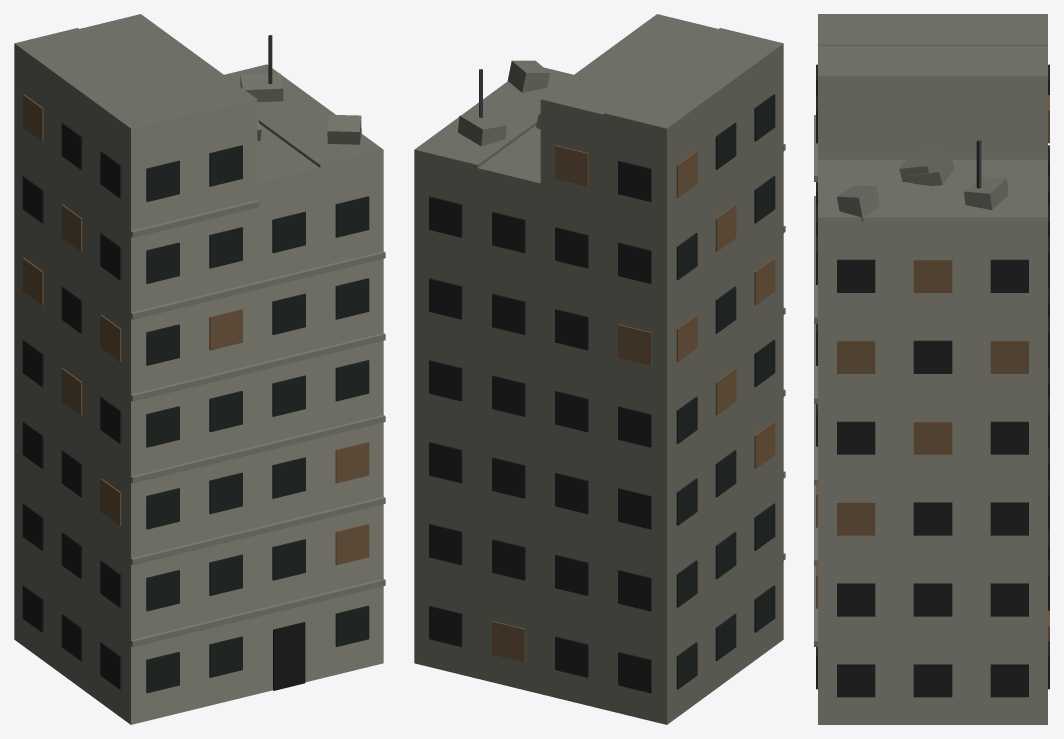
File: ct_ruin_b.glb
3 renders of one model, left to right at view 1: azimuth 30°, elevation 25°; view 2: azimuth 150°, elevation 25°; view 3: azimuth 270°, elevation 25°, orthographic.
Parts seen in each view (by area): view 1: ct_ruin_b; view 2: ct_ruin_b; view 3: ct_ruin_b.
Part boxes in pixels (x1,y1,x2,y2): ct_ruin_b: (14, 14, 385, 724); ct_ruin_b: (414, 14, 785, 724); ct_ruin_b: (814, 14, 1049, 724).
Bounding box in the file's own units: 10.12 × 22.58 × 8.19.
